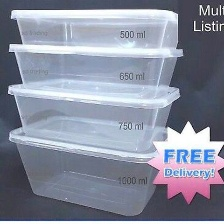plastic_box: (2, 110, 180, 221), (3, 73, 185, 158), (3, 38, 188, 103), (4, 2, 184, 55)
